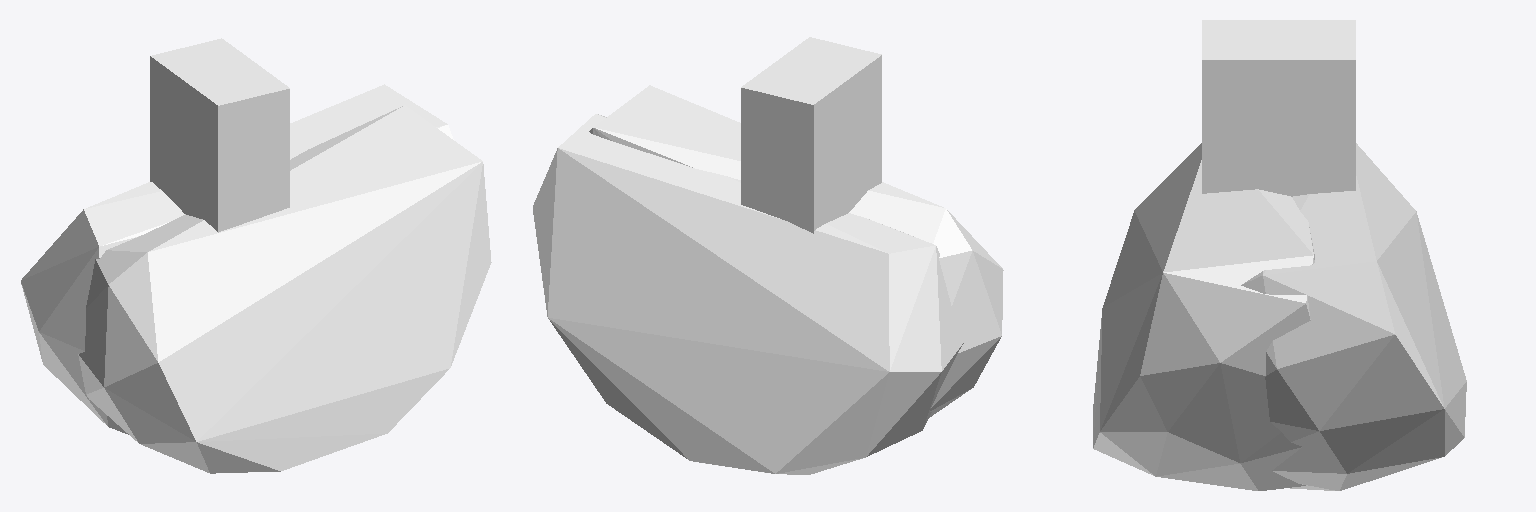
The robot description file, URDF, robot "red_trunk":
<robot name="red_trunk">
  <link name="base_link">
    <visual>
      <origin xyz="0 0 0" rpy="0 0 0" />
      <geometry>
        <mesh filename="package://hpp-timeopt-corba/meshes/red/red_whole.stl"/>
      </geometry>
      <material name="white">
        <color rgba="1 1 1 1"/>
      </material>
    </visual>
    <collision>
      <origin xyz="0 0 0" rpy="0 0 0" />
      <geometry>
	<mesh filename="package://hpp-timeopt-corba/meshes/red/trunk.stl"/>
      </geometry>
    </collision>
  </link>
</robot>

--- Render facts (derived) ---
The picture shows the robot from 3 angles, left to right: view 1: azimuth 30°, elevation 25°; view 2: azimuth 150°, elevation 25°; view 3: azimuth 270°, elevation 25°; orthographic projection.
Robot: red_trunk — 1 links, 0 joints (none); root link base_link; default pose: every joint at zero.
Links seen in each view (by area): view 1: base_link; view 2: base_link; view 3: base_link.
Link boxes in pixels (box(x1,y1,x2,y2)): base_link: box(21, 38, 491, 473); base_link: box(533, 37, 1003, 474); base_link: box(1093, 20, 1466, 490).
Size in the robot's own frame: 1.49 by 1.12 by 1.38 metres.
Meshes: 1 distinct files referenced, 1 mesh visuals loaded (1 binary STL).